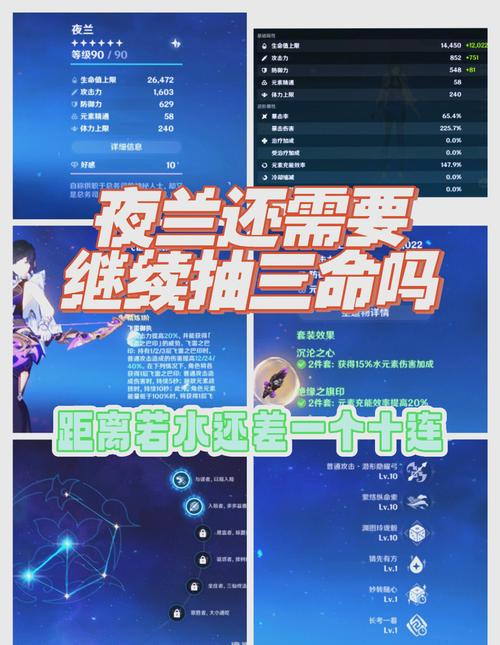夜兰: (15, 238, 56, 433)
